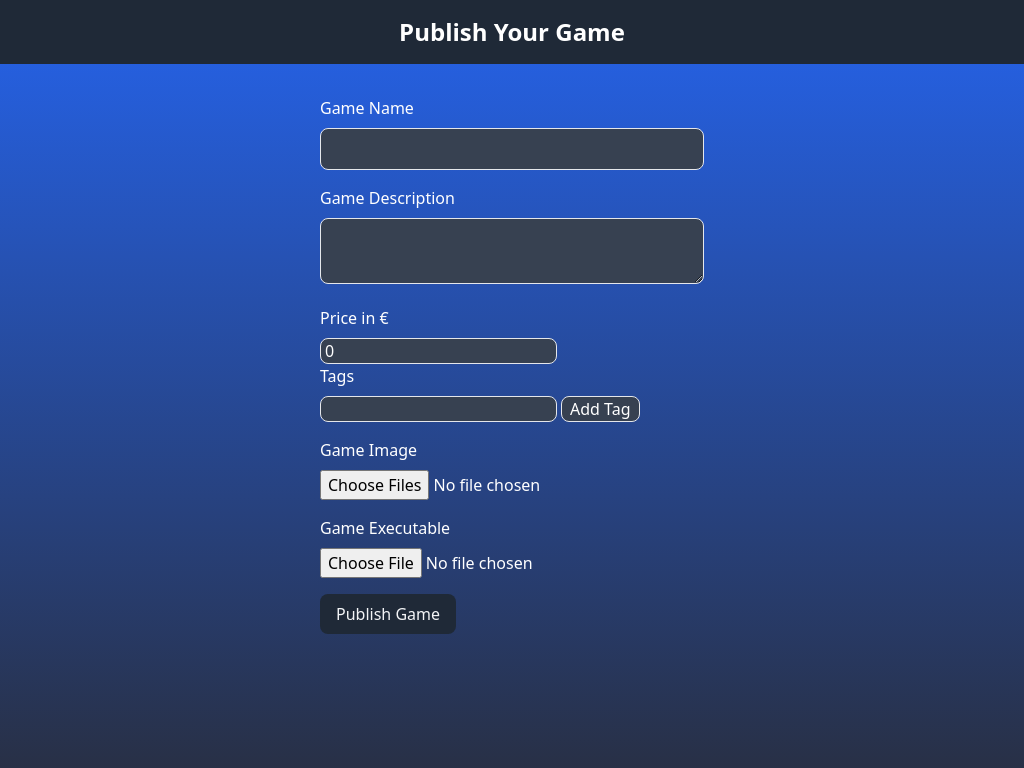
it: PublishYourGames component › should add a tag
The image size is (1024, 768).
Type "Test Tag" into the field labelled "Tags" at (438, 409), box [320, 396, 557, 422]
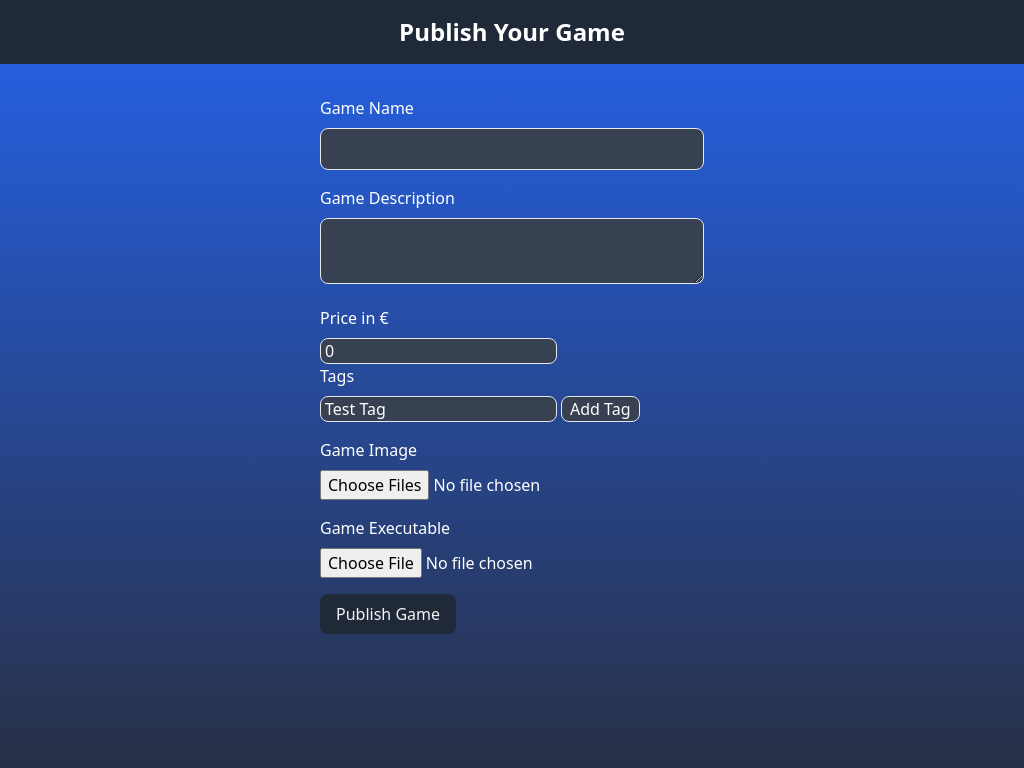
Click the button "Add Tag" at (600, 409), box [561, 396, 640, 422]
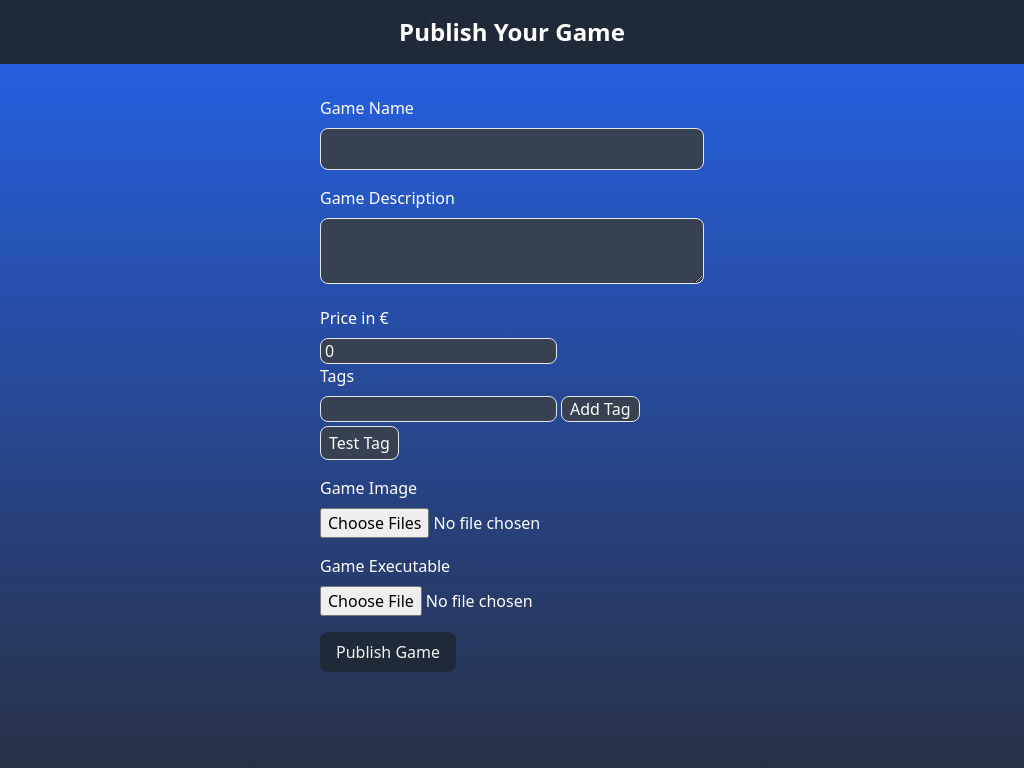
Result: the button "Test Tag" is shown at [320, 426, 399, 460]
